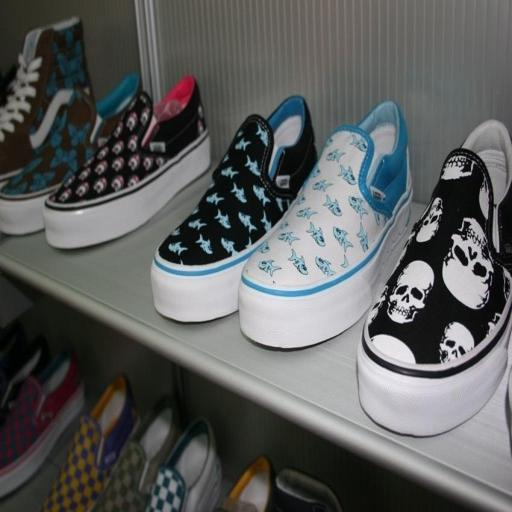shoe: (176, 101, 412, 349), (357, 120, 512, 436), (151, 96, 316, 322), (44, 75, 210, 249), (0, 73, 139, 235), (0, 17, 93, 186), (41, 375, 138, 512), (0, 353, 84, 496), (94, 397, 180, 512), (146, 418, 222, 512), (0, 336, 50, 424), (217, 456, 275, 512), (275, 468, 342, 512), (0, 320, 27, 372), (0, 65, 17, 108)
